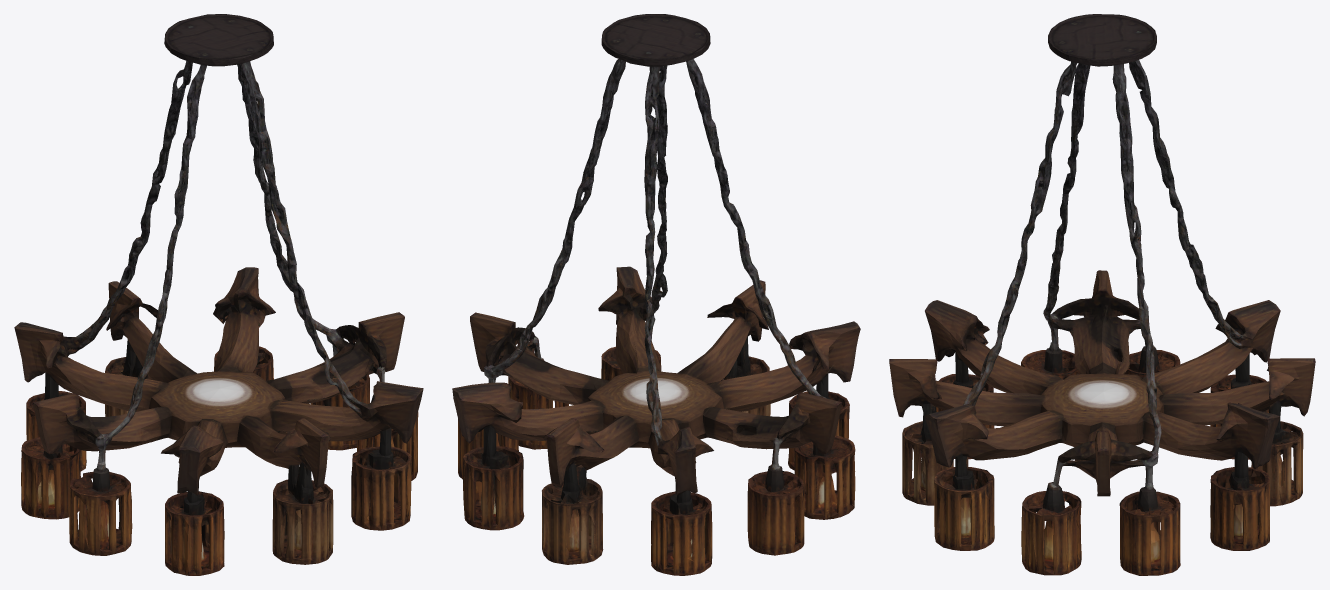
3 renders of one model, left to right at view 1: azimuth 30°, elevation 25°; view 2: azimuth 150°, elevation 25°; view 3: azimuth 270°, elevation 25°, orthographic.
Parts seen in each view (by area): view 1: world; view 2: world; view 3: world.
Part boxes in pixels (x1,y1,x2,y2): world: [14, 14, 423, 575]; world: [452, 14, 860, 575]; world: [889, 14, 1315, 575].
Size of the model in its own units: 0.8097 by 0.9572 by 0.809.
1 material, 1 textured.
